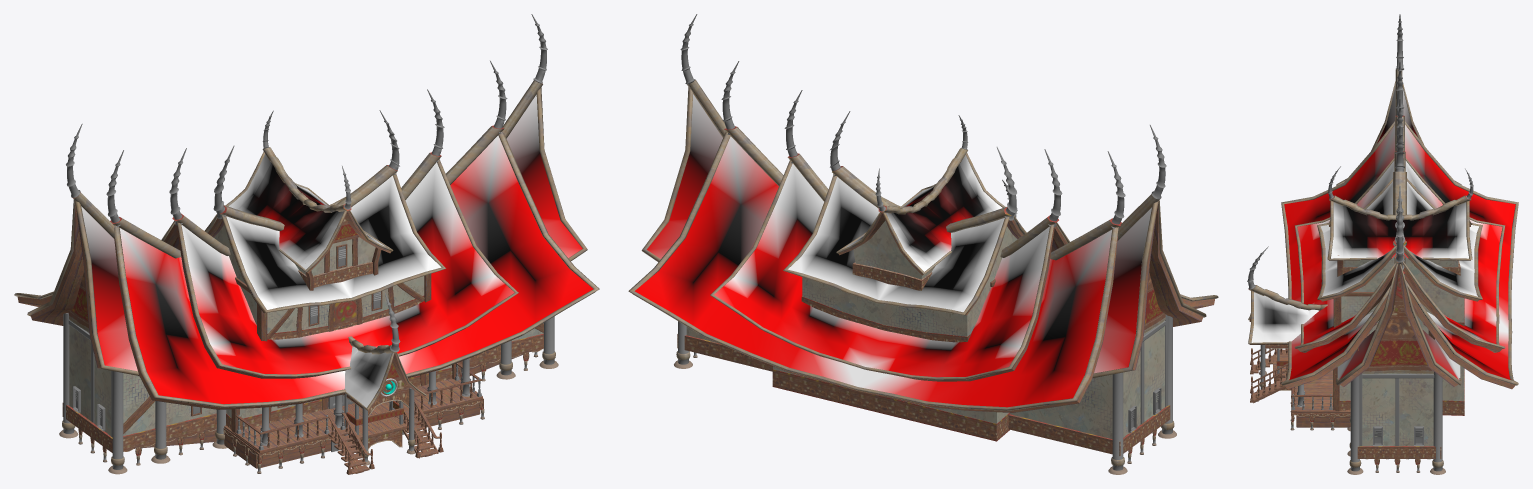
File: SM_Banjuang.fbx
3 renders of one model, left to right at view 1: azimuth 30°, elevation 25°; view 2: azimuth 150°, elevation 25°; view 3: azimuth 270°, elevation 25°, orthographic. The views are drawn at different scales.
Visible parts, largest first — view 1: Cube.042, Cube.041, Cube.040, Cube.043, Cube.039, Cube.043_Curve, Cube.050, Cube.042_Curve.003, Cube.045, Cube.054, Cube.043_Curve.003, Cube.048 (+25 smaller); view 2: Cube.042, Cube.041, Cube.040, Cube.043, Cube.039, Cube.050, Cube.043_Curve, Cube.042_Curve.003, Cube.048, Cube.055, Cube.054, Cube.043_Curve.003 (+14 smaller); view 3: Cube.042, Cube.041, Cube.039, Cube.050, Cube.040, Cube.042_Curve.003, Cube.043, Cube.064, Cube.051, Cube.048, Cube.041_Curve.003, Cube.040_Curve.003 (+22 smaller).
Part boxes in pixels (bbox=[...]): Cube.042: bbox=[17, 135, 594, 409]; Cube.041: bbox=[164, 162, 514, 378]; Cube.040: bbox=[207, 175, 441, 313]; Cube.043: bbox=[30, 94, 582, 371]; Cube.039: bbox=[228, 154, 391, 273]; Cube.043_Curve: bbox=[72, 80, 542, 258]; Cube.050: bbox=[69, 319, 543, 436]; Cube.042_Curve.003: bbox=[14, 131, 599, 407]; Cube.045: bbox=[233, 378, 482, 453]; Cube.054: bbox=[62, 333, 543, 452]; Cube.043_Curve.003: bbox=[27, 87, 587, 375]; Cube.048: bbox=[214, 225, 424, 333]; Cube.042: bbox=[633, 136, 1214, 412]; Cube.041: bbox=[714, 163, 1067, 381]; Cube.040: bbox=[788, 177, 1023, 315]; Cube.043: bbox=[647, 94, 1203, 373]; Cube.039: bbox=[838, 155, 1002, 275]; Cube.050: bbox=[686, 320, 1164, 439]; Cube.043_Curve: bbox=[687, 80, 1159, 260]; Cube.042_Curve.003: bbox=[628, 132, 1218, 410]; Cube.048: bbox=[802, 226, 1017, 336]; Cube.055: bbox=[772, 369, 1009, 441]; Cube.054: bbox=[677, 334, 1170, 455]; Cube.043_Curve.003: bbox=[641, 87, 1206, 377]; Cube.042: bbox=[1284, 124, 1515, 389]; Cube.041: bbox=[1297, 160, 1502, 352]; Cube.039: bbox=[1329, 202, 1470, 260]; Cube.050: bbox=[1362, 372, 1433, 446]; Cube.040: bbox=[1320, 181, 1479, 301]; Cube.042_Curve.003: bbox=[1281, 121, 1518, 385]; Cube.043: bbox=[1337, 87, 1460, 386]; Cube.064: bbox=[1358, 275, 1433, 373]; Cube.051: bbox=[1249, 292, 1318, 344]; Cube.048: bbox=[1341, 254, 1464, 323]; Cube.041_Curve.003: bbox=[1294, 158, 1505, 348]; Cube.040_Curve.003: bbox=[1317, 178, 1482, 299].
Size of the model in its own units: 4491 by 2923 by 2581.
